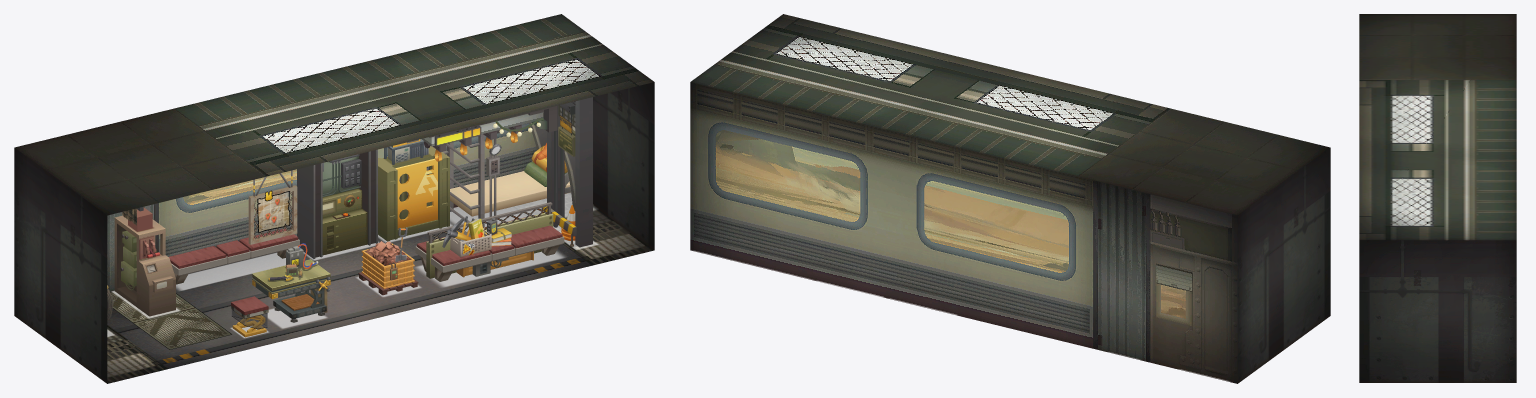
The model's file is shuttle.glb.
The picture shows the model from 3 angles, left to right: view 1: azimuth 30°, elevation 25°; view 2: azimuth 150°, elevation 25°; view 3: azimuth 270°, elevation 25°; orthographic projection. The views are drawn at different scales.
Visible parts, largest first — view 1: ROOM_room, ROOM_floor, furni_shuttle_dashboard_01, furni_shuttle_bench_02, furni_shuttle_metercabinet_01, furni_shuttle_bed_01, furni_shuttle_frame_01, furni_shuttle_console_01, furni_shuttle_table_01, furni_shuttle_carpet_01, furni_shuttle_bench_01, furni_shuttle_ringstand_01 (+10 smaller); view 2: ROOM_room, ROOM_LDoor; view 3: ROOM_room, ROOM_RDoor.
Boxes of the visible parts, bbox=[...] form: ROOM_room: bbox=[14, 14, 654, 383]; ROOM_floor: bbox=[107, 192, 654, 383]; furni_shuttle_dashboard_01: bbox=[297, 149, 377, 258]; furni_shuttle_bench_02: bbox=[415, 202, 564, 281]; furni_shuttle_metercabinet_01: bbox=[378, 139, 449, 241]; furni_shuttle_bed_01: bbox=[443, 122, 593, 227]; furni_shuttle_frame_01: bbox=[541, 97, 592, 247]; furni_shuttle_console_01: bbox=[114, 207, 175, 316]; furni_shuttle_table_01: bbox=[252, 243, 330, 322]; furni_shuttle_carpet_01: bbox=[110, 291, 231, 349]; furni_shuttle_bench_01: bbox=[168, 228, 299, 284]; furni_shuttle_ringstand_01: bbox=[422, 105, 557, 161]; ROOM_room: bbox=[690, 14, 1330, 383]; ROOM_LDoor: bbox=[1297, 249, 1316, 339]; ROOM_room: bbox=[1359, 14, 1516, 382]; ROOM_RDoor: bbox=[1382, 318, 1414, 382].
Bounding box in the file's own units: 7.54 × 2.2 × 2.27.
Materials: 7 (7 with a texture image).
